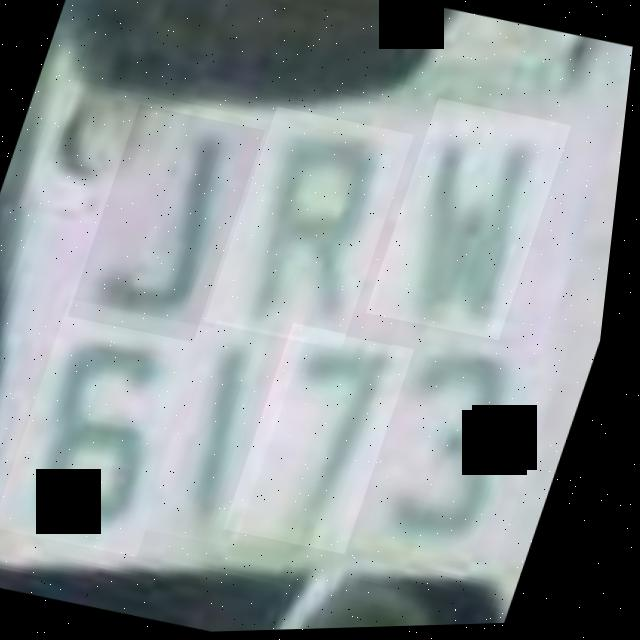1: (156, 321, 314, 552)
3: (335, 300, 584, 579)
6: (1, 296, 225, 561)
7: (233, 324, 424, 559)
B: (369, 98, 577, 348)
J: (72, 102, 270, 346)
R: (208, 105, 419, 356)
